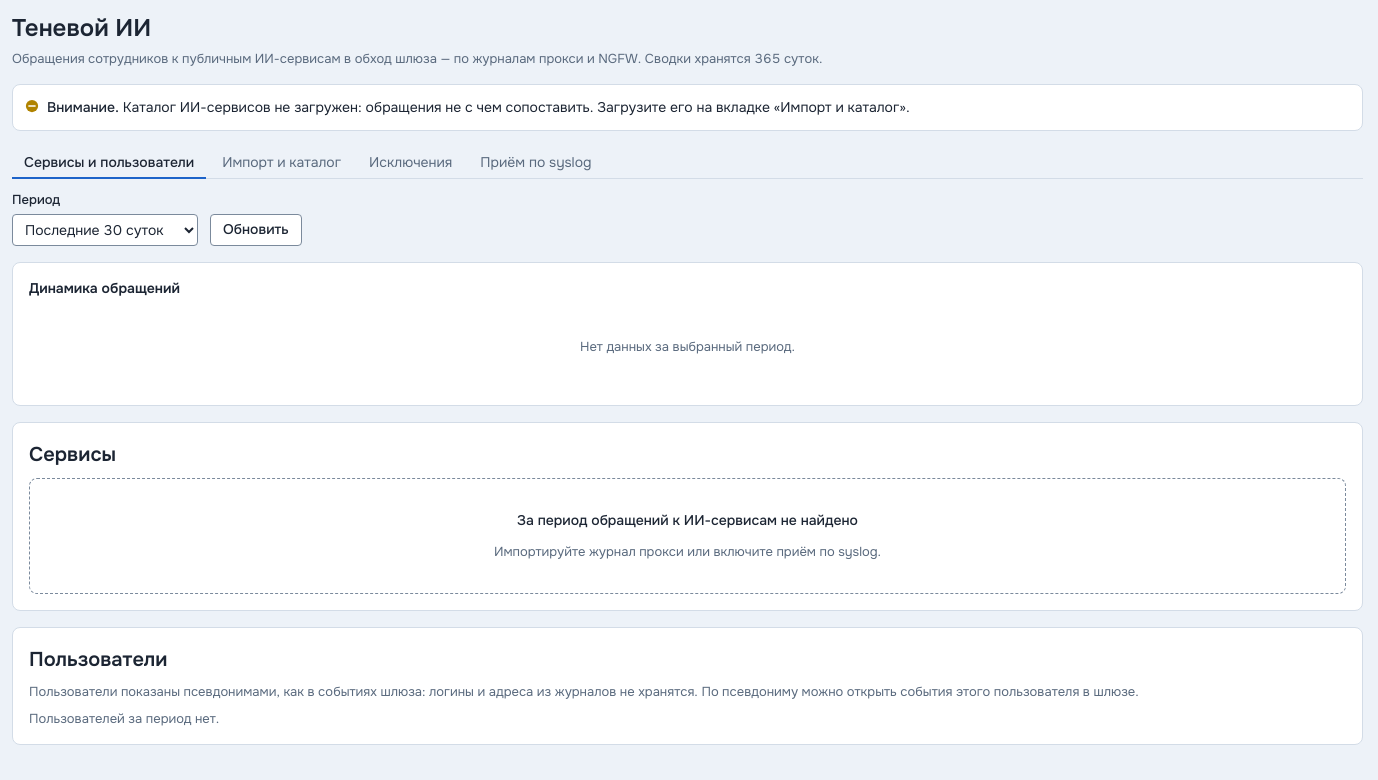
Test: экран «Теневой ИИ» › пустой период и незагруженный каталог
Expected: the text "За период обращений к ИИ-сервисам не найдено" is shown, x1=517 y1=511 x2=858 y2=531
Expected: the text "Каталог ИИ-сервисов не загружен" is shown, x1=123 y1=98 x2=910 y2=116
Press the mouse on the tab "Импорт и каталог": (282, 163) x1=210 y1=147 x2=353 y2=179
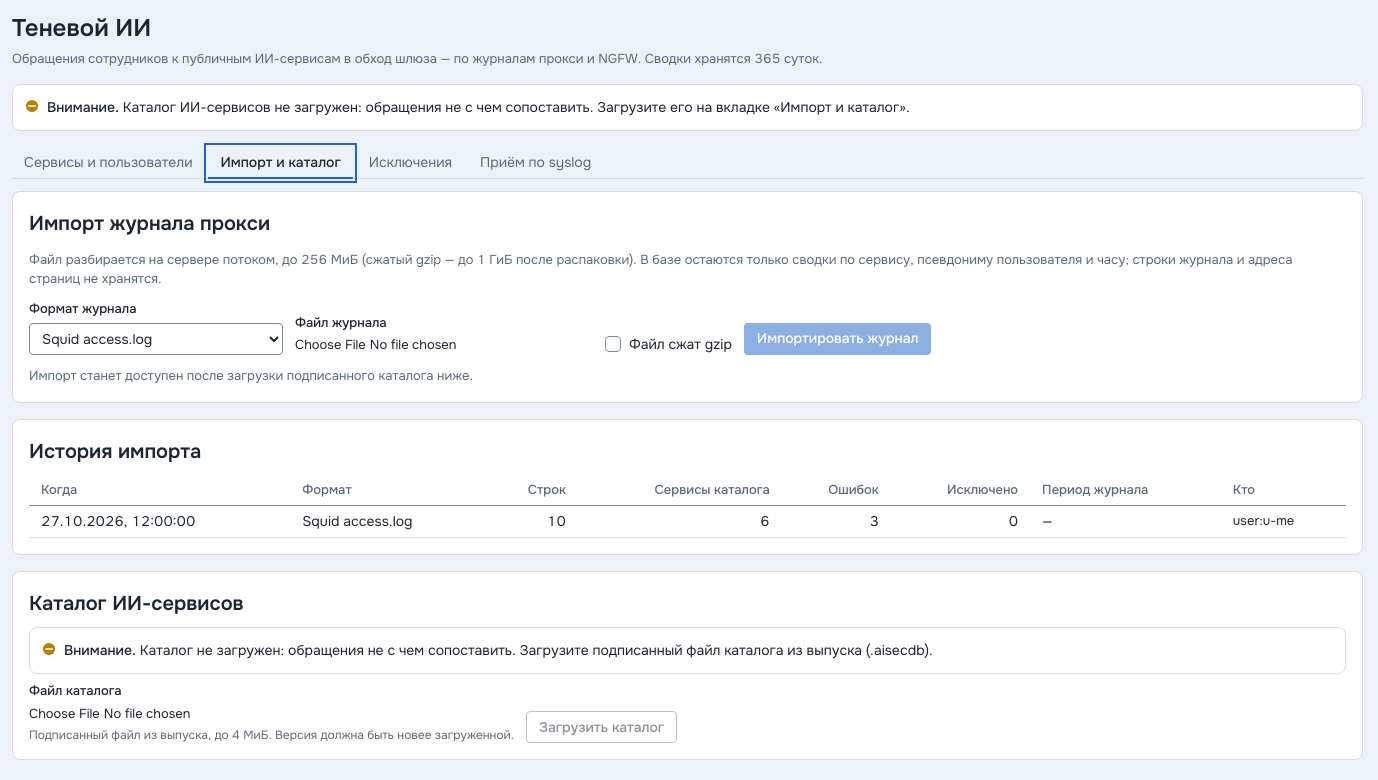
Now the button "Импортировать журнал" is disabled, box x1=744 y1=323 x2=931 y2=355
